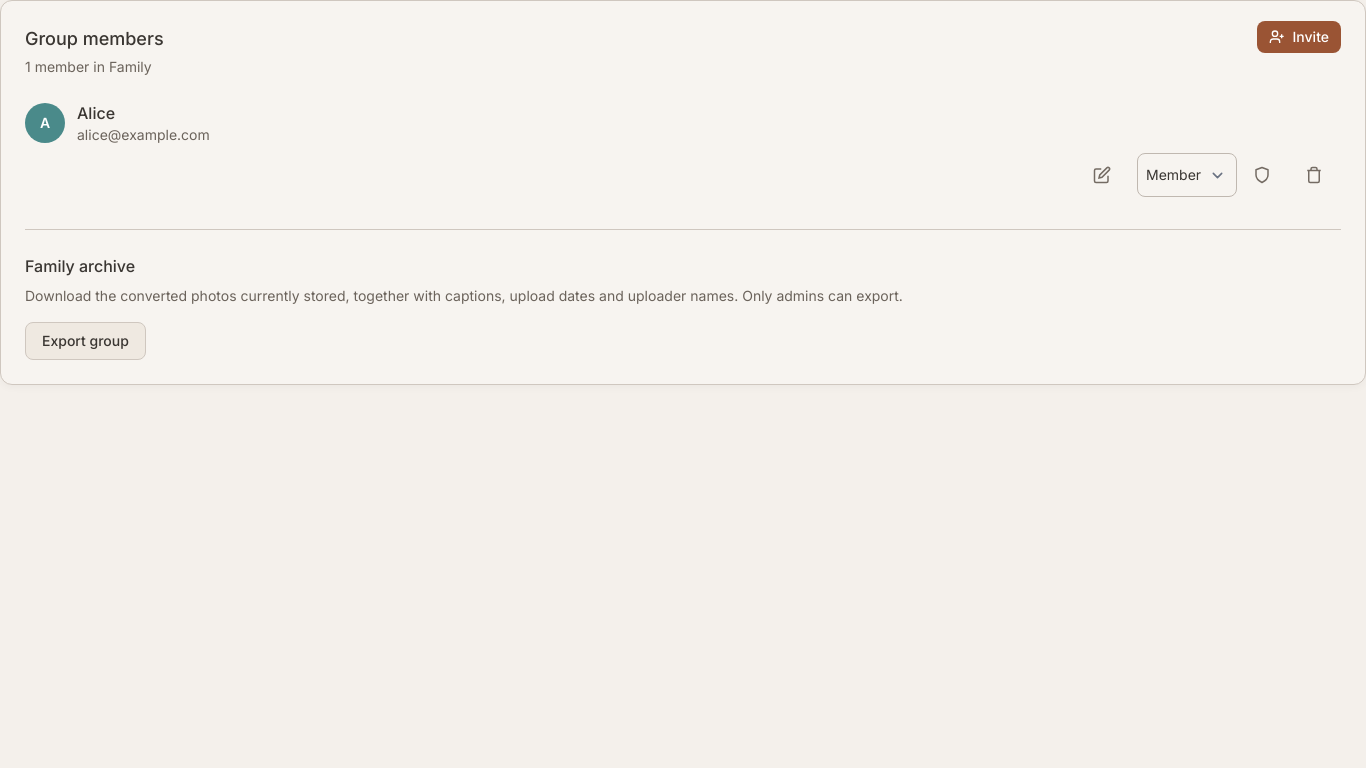
MembersList display names › offers the member’s own name as the default when no override is set
Expected: the text "Alice" is shown, [77, 103, 115, 123]
Click the button named "Set Alice's display name in Family". click: (1107, 175)
box: [1085, 153, 1129, 197]
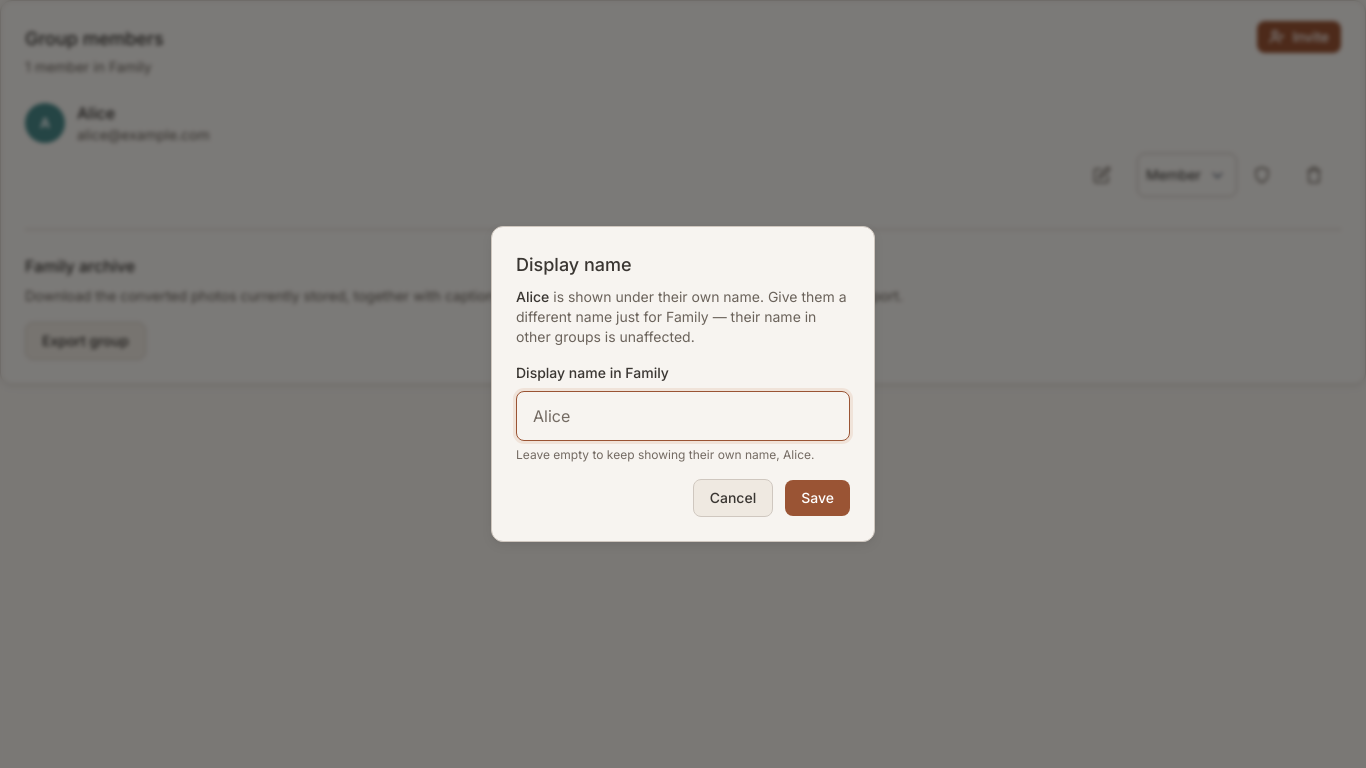
Now the field labelled "Display name in Family" is empty, box [516, 391, 850, 441]
Now the text "Leave empty to keep showing their own name, Alice." is shown, box [516, 447, 850, 463]
